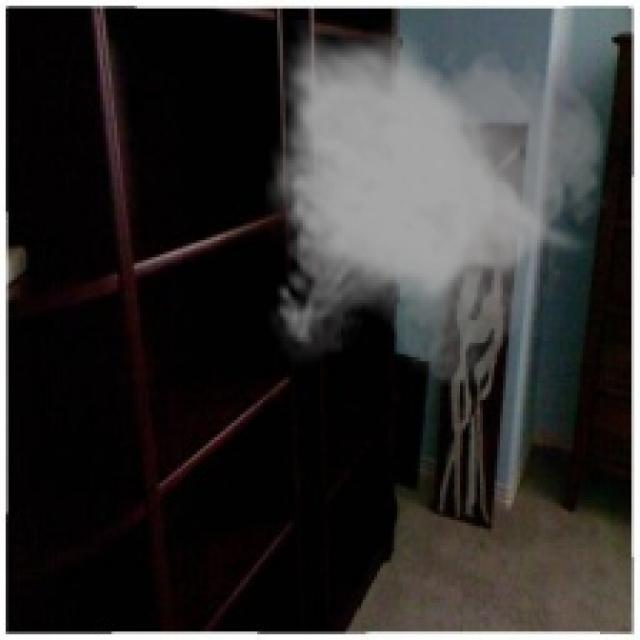Smoke: (266, 20, 608, 386)
